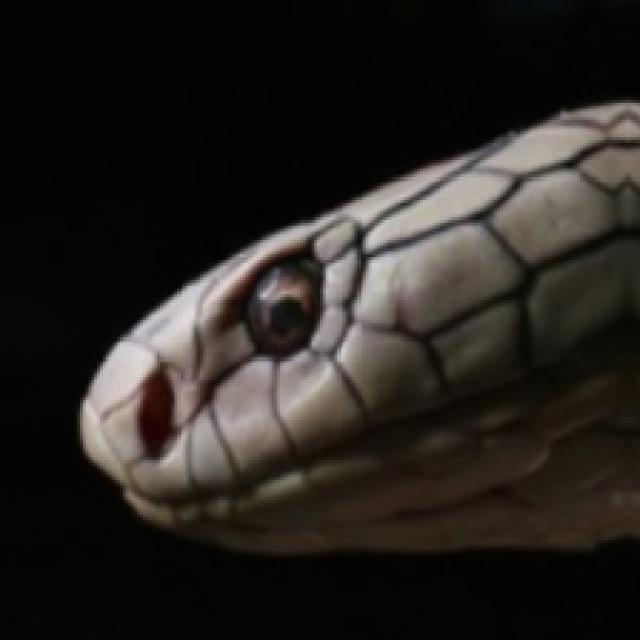king cobra: (80, 103, 637, 551)
